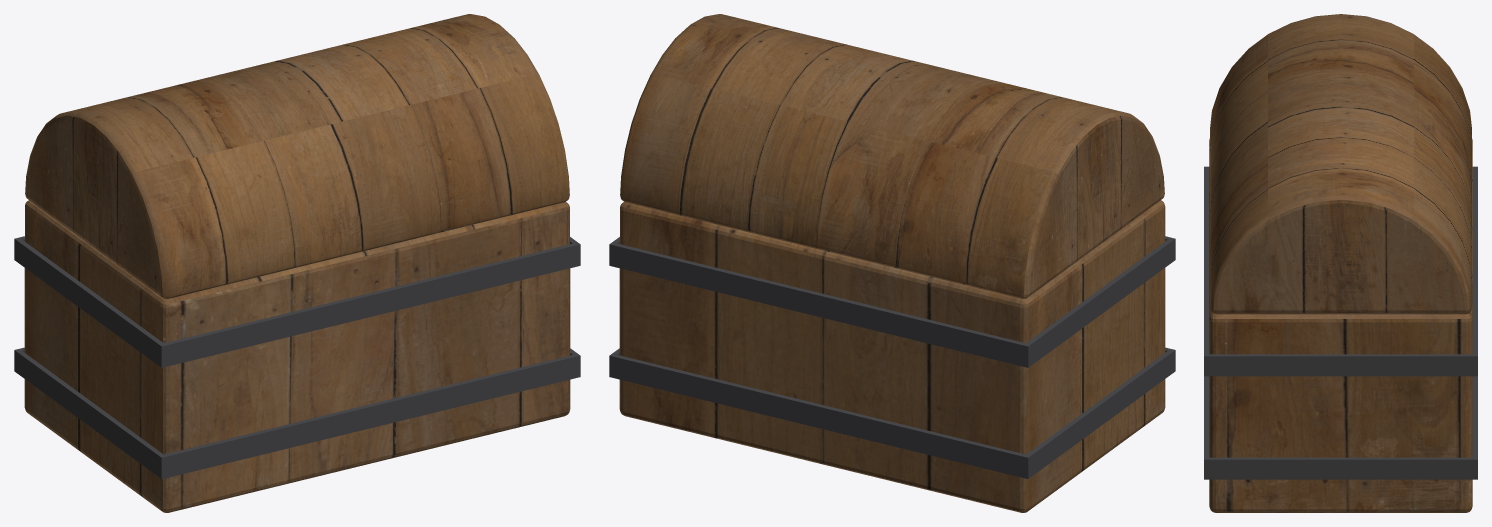
Rendered from chest.glb.
3 renders of one model, left to right at view 1: azimuth 30°, elevation 25°; view 2: azimuth 150°, elevation 25°; view 3: azimuth 270°, elevation 25°, orthographic. The views are drawn at different scales.
Parts seen in each view (by area): view 1: Chest_Lid, Chest_Body, Chest_Band; view 2: Chest_Lid, Chest_Body, Chest_Band; view 3: Chest_Lid, Chest_Body, Chest_Band.
Part boxes in pixels (box(x1,y1,x2,y2)): Chest_Lid: box(25, 14, 569, 298); Chest_Body: box(24, 200, 570, 512); Chest_Band: box(14, 236, 580, 478); Chest_Lid: box(620, 14, 1164, 298); Chest_Body: box(619, 200, 1165, 512); Chest_Band: box(609, 236, 1175, 478); Chest_Lid: box(1210, 14, 1471, 314); Chest_Body: box(1209, 138, 1472, 512); Chest_Band: box(1204, 166, 1477, 479).
Size of the model in its own units: 1.02 by 0.8 by 0.624.
Materials: 3 (2 with a texture image).
